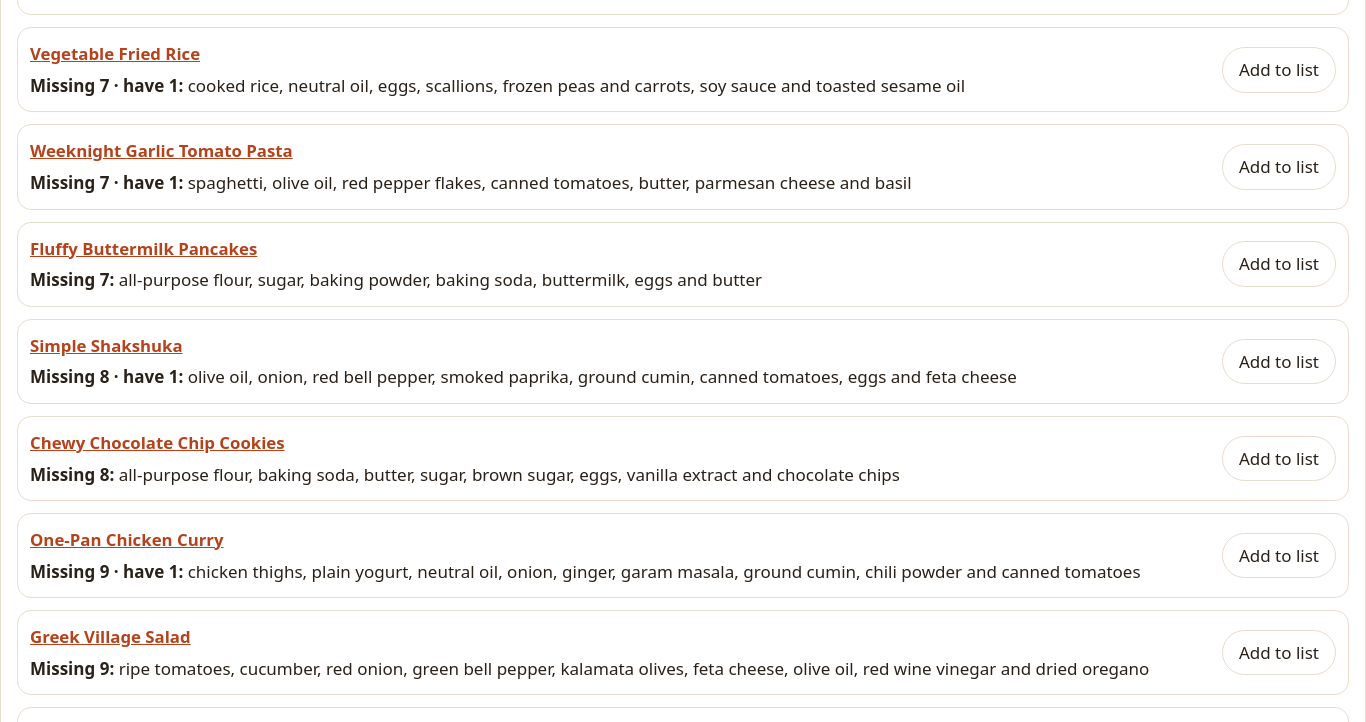
Test: PantryView › adds a recipe you are missing things for to the shopping list
(page scrolled)
What coordinates should you click on to do the following:
click the button named "Add to list: Simple Shakshuka"
I would click on:
 (1279, 361)
Its box is [1222,338,1336,384].
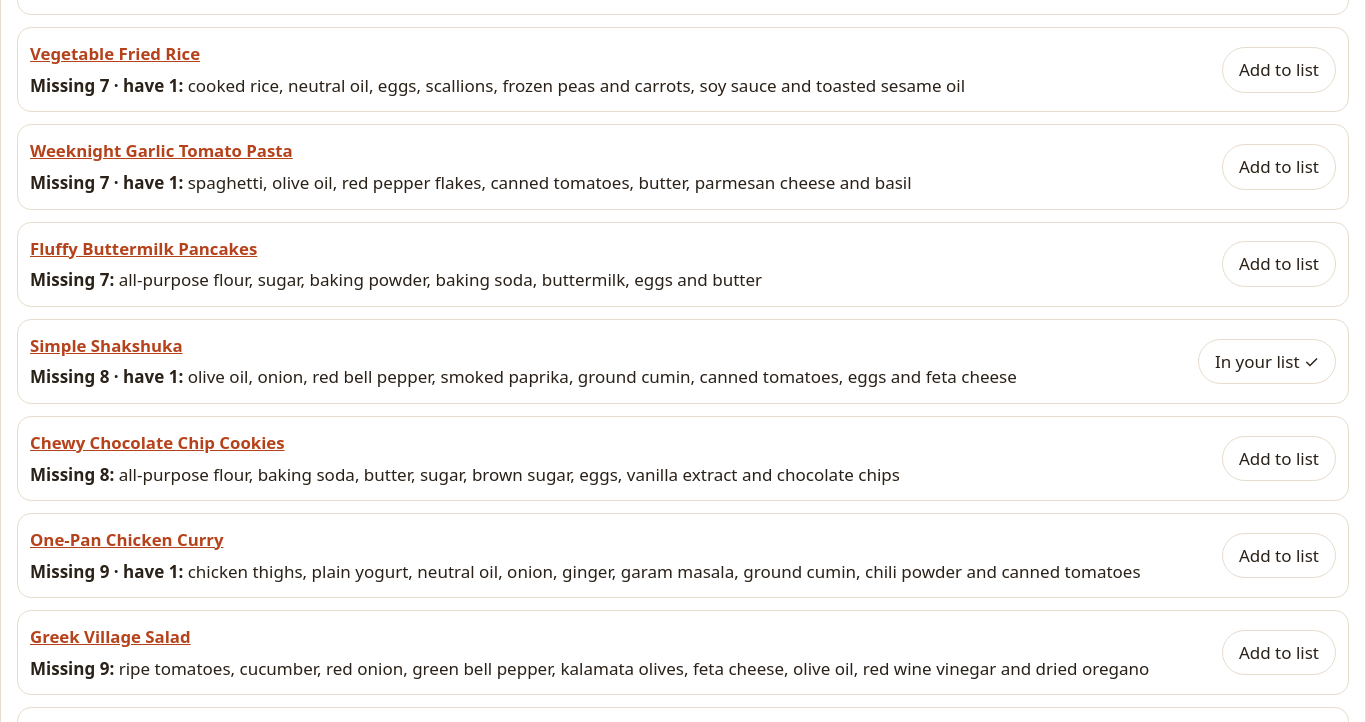
Expected: the link "In your list ✓" is shown, [1198,338,1336,384]
